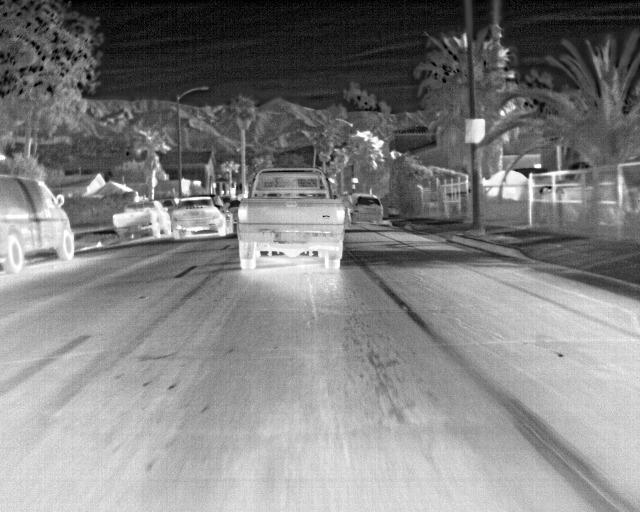car: (238, 164, 346, 272), (0, 172, 74, 273), (169, 194, 235, 236), (112, 199, 170, 242), (350, 193, 385, 225), (227, 198, 242, 227)
